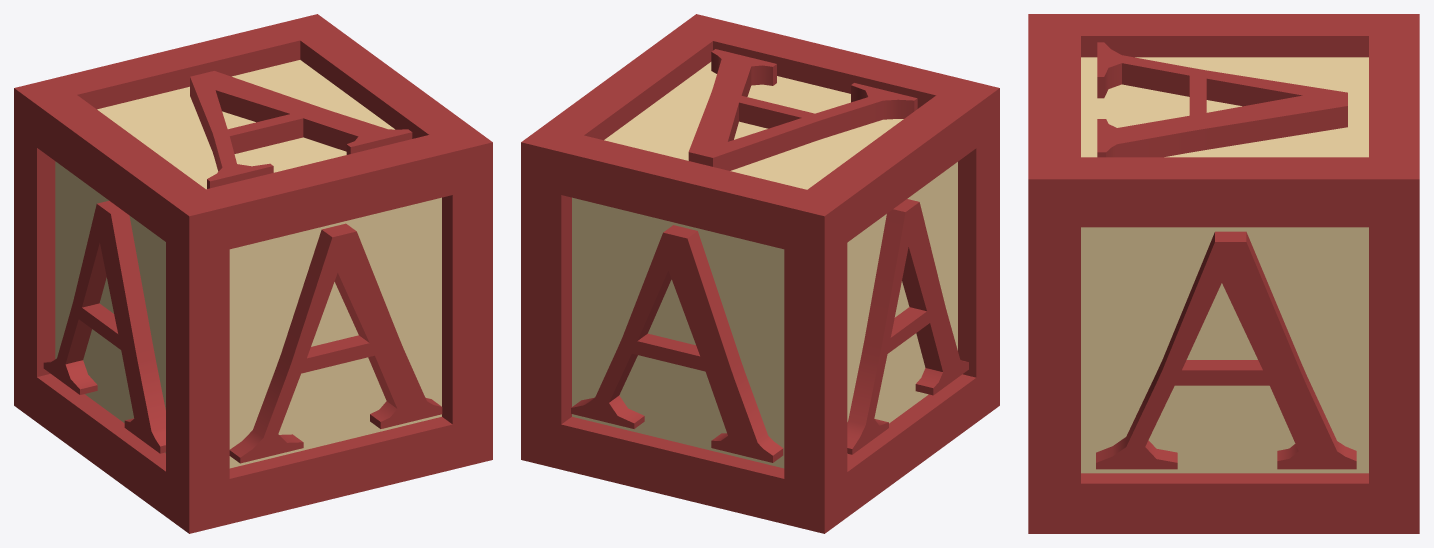
The model's file is Ablock.FBX.
3 renders of one model, left to right at view 1: azimuth 30°, elevation 25°; view 2: azimuth 150°, elevation 25°; view 3: azimuth 270°, elevation 25°, orthographic. The views are drawn at different scales.
Parts seen in each view (by area): view 1: Box Base, A Front, A Left, A Top; view 2: Box Base, A Back, A Left, A Top; view 3: Box Base, A Right, A Top.
Boxes of the visible parts, x1,y1,x2,y2 form: Box Base: [14, 14, 492, 533]; A Front: [229, 223, 442, 463]; A Left: [43, 200, 165, 453]; A Top: [190, 71, 412, 188]; Box Base: [521, 14, 999, 533]; A Back: [571, 225, 783, 462]; A Left: [847, 199, 968, 454]; A Top: [688, 49, 917, 170]; Box Base: [1028, 14, 1419, 533]; A Right: [1096, 231, 1356, 469]; A Top: [1097, 42, 1347, 157].
Bounding box in the file's own units: 39.43 × 39.37 × 39.39.
Materials: 2 (2 with a texture image).
